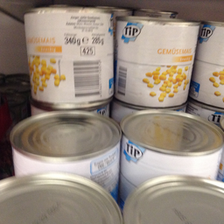corn: (24, 5, 117, 108), (113, 15, 202, 106)
